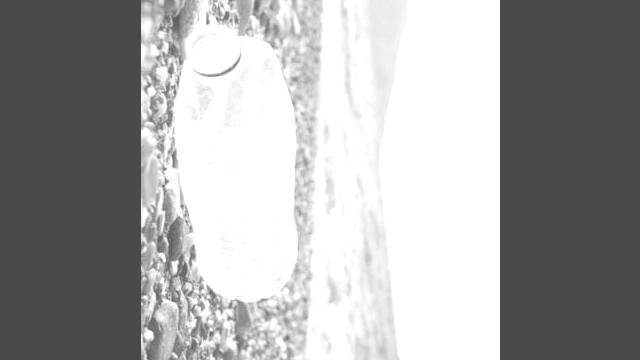bottle: (161, 14, 303, 305)
